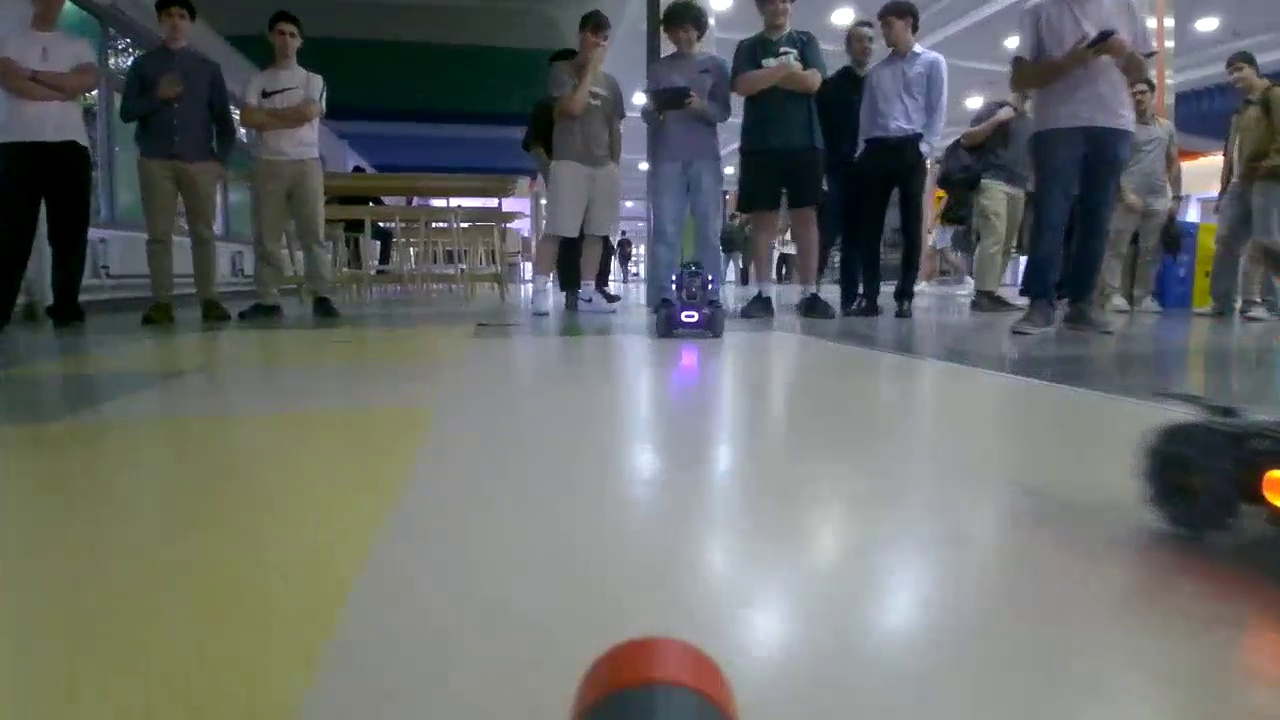robot: (1140, 383, 1280, 564), (653, 260, 727, 339)
